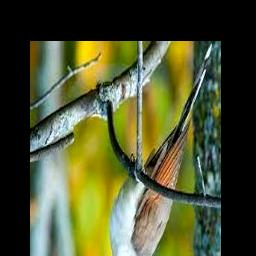Cuckoo: (108, 41, 214, 256)
